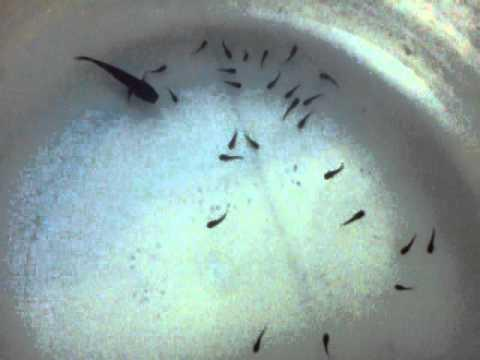fish: (63, 44, 161, 107), (196, 196, 240, 250), (303, 157, 356, 196), (307, 323, 347, 360), (336, 200, 373, 240), (392, 226, 419, 261), (250, 320, 274, 359), (310, 67, 344, 94), (422, 222, 443, 264), (214, 150, 249, 173), (387, 275, 419, 300), (281, 37, 305, 69), (219, 75, 250, 99), (243, 125, 265, 158), (295, 105, 318, 134), (191, 32, 210, 61), (148, 58, 172, 79), (256, 43, 275, 68)
